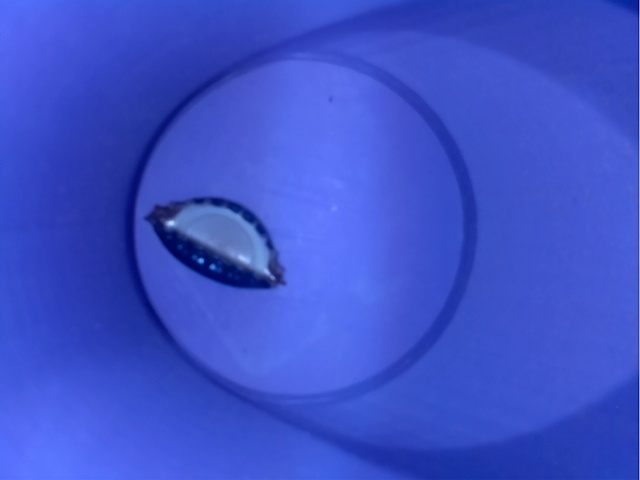capsule: (134, 187, 298, 309)
